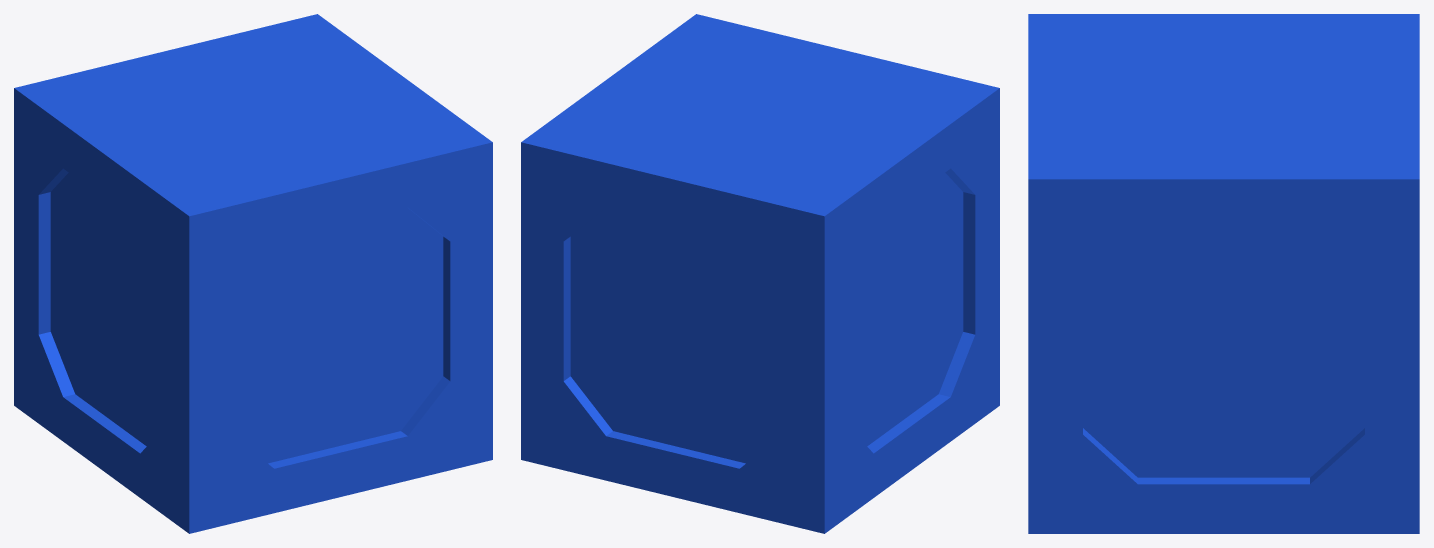
Rendered from base_block.glb.
3 views of the same model, side by side, from view 1: azimuth 30°, elevation 25°; view 2: azimuth 150°, elevation 25°; view 3: azimuth 270°, elevation 25° (orthographic). The views are drawn at different scales.
Visible parts, largest first — view 1: Base_Blue; view 2: Base_Blue; view 3: Base_Blue.
Boxes of the visible parts, x1=… form: Base_Blue: x1=14, y1=14, x2=492, y2=533; Base_Blue: x1=521, y1=14, x2=999, y2=533; Base_Blue: x1=1028, y1=14, x2=1419, y2=533.
Bounding box in the file's own units: 1 × 1 × 1.
